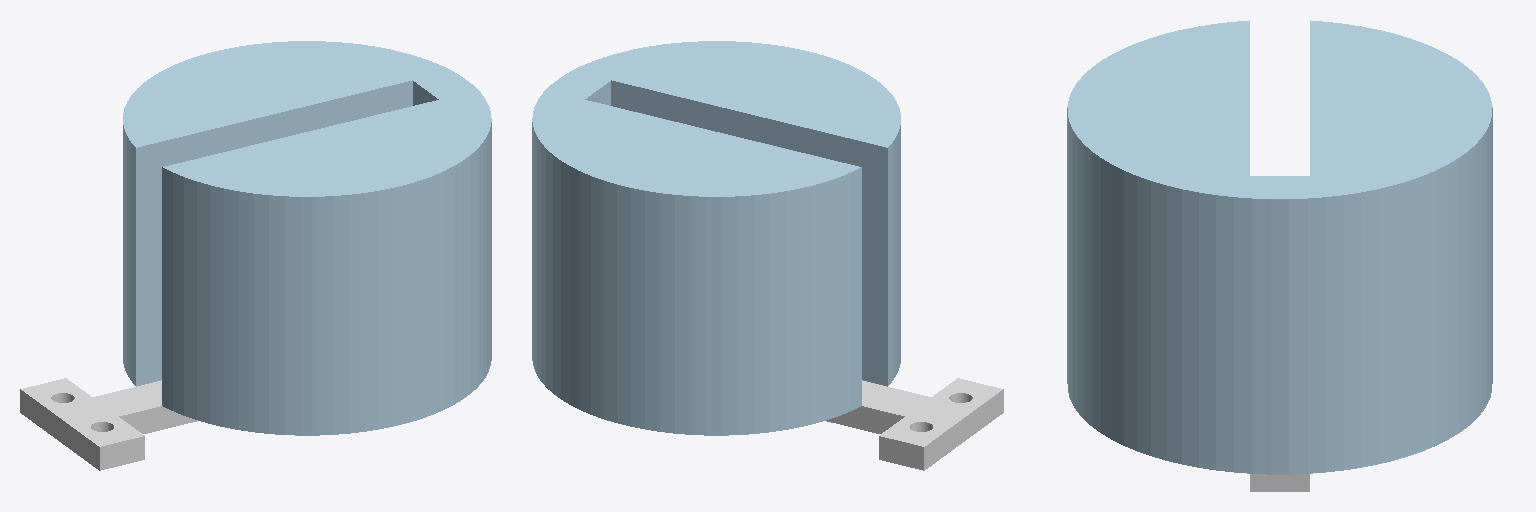
URDF robot description (camera):
<?xml version="1.0"?>
<robot name="camera">
<link name="camera_sup2">
<visual>
<origin xyz="-0.044250000000000101752 0.064999999999999655276 0.51000000000000034195" rpy="1.570796326794896558 6.6613381477509234653e-16 -1.570796326794896558" />
<geometry>
<mesh filename="package://hc10_with_hand/meshes/camera/camera_sup2.stl"/>
</geometry>
<material name="camera_sup2_material">
<color rgba="0.91764705882352937127 0.91764705882352937127 0.91764705882352937127 1.0"/>
</material>
</visual>
<collision>
<origin xyz="-0.044250000000000101752 0.064999999999999655276 0.51000000000000034195" rpy="1.570796326794896558 6.6613381477509234653e-16 -1.570796326794896558" />
<geometry>
<mesh filename="package://hc10_with_hand/meshes/camera/camera_sup2.stl"/>
</geometry>
</collision>
<visual>
<origin xyz="-0.045084453531127645365 0.064999999999999655276 0.51000000000000045297" rpy="1.570796326794896558 6.6613381477509234653e-16 -1.570796326794896558" />
<geometry>
<mesh filename="package://hc10_with_hand/meshes/camera/camera_link.stl"/>
</geometry>
<material name="camera_link_material">
<color rgba="0.76862745098039220171 0.88627450980392152857 0.95294117647058818044 1.0"/>
</material>
</visual>
<collision>
<origin xyz="-0.045084453531127645365 0.064999999999999655276 0.51000000000000045297" rpy="1.570796326794896558 6.6613381477509234653e-16 -1.570796326794896558" />
<geometry>
<mesh filename="package://hc10_with_hand/meshes/camera/camera_link.stl"/>
</geometry>
</collision>
<inertial>
<origin xyz="0.04949093212775205336 0.0074999999999999372724 0.029126341361751767467" rpy="0 0 0"/>
<mass value="0.44949998079333491896" />
<inertia ixx="0.00025885935812457525193" ixy="-9.4509154105318211273e-21"  ixz="-6.3216991564398030949e-06" iyy="0.00024727718204468863376" iyz="-3.5333537328324862512e-20" izz="0.00030425868802670864464" />
</inertial>
</link>

<link name="camera_to_hand">
<inertial>
<origin xyz="0 0 0" rpy="0 0 0" />
<mass value="1e-9" />
<inertia ixx="0" ixy="0" ixz="0" iyy="0" iyz="0" izz="0" />
</inertial>
</link>
<joint name="camera_to_hand_frame" type="fixed">
<origin xyz="1.2986865570217543499e-17 -6.9676108198468406655e-17 -3.3306690738754696213e-16" rpy="6.6613381477509185349e-16 5.6699377562760083384e-31 1.3877787807814422859e-17" />
<parent link="camera_to_hand" />
<child link="camera_sup2" />
<axis xyz="0 0 0"/>
</joint>

<link name="camera_link_view">
<inertial>
<origin xyz="0 0 0" rpy="0 0 0" />
<mass value="1e-9" />
<inertia ixx="0" ixy="0" ixz="0" iyy="0" iyz="0" izz="0" />
</inertial>
</link>
<joint name="camera_link_view_frame" type="fixed">
<origin xyz="0.050000000000000134615 0.0074999999999999103842 0.049999999999999732159" rpy="-5.6699377562760144691e-31 6.6613381477509234653e-16 -1.570796326794896558" />
<parent link="camera_sup2" />
<child link="camera_link_view" />
<axis xyz="0 0 0"/>
</joint>

<gazebo reference="camera_sup2">
    <material>Gazebo/Red</material>
    <sensor name="camera" type="camera">
    <pose> 0 0 0 0 0 0 </pose>
    <visualize>true</visualize>
    <update_rate>10</update_rate>
    	<camera>
    		<horizontal_fov>1.42419</horizontal_fov>
    		<image>
        	<format>R8G8B8</format>
        	<width>1920</width>
        	<height>1080</height>
    		</image>
    		<clip>
        	<near>0.05</near>
        	<far>8.0</far>
    		</clip>
    	</camera>
    <plugin name="camera_controller" filename="libgazebo_ros_camera.so">
    <frame_name>camera_link_view</frame_name>
    </plugin>
</sensor>
</gazebo>

</robot>

--- Render facts (derived) ---
Views: 3 orthographic renders of the robot side by side, from view 1: azimuth 30°, elevation 25°; view 2: azimuth 150°, elevation 25°; view 3: azimuth 270°, elevation 25°.
Robot: camera — 3 links, 2 joints (2 fixed); root link camera_to_hand; default pose: all joints at 0.
Links seen in each view (by area): view 1: camera_sup2; view 2: camera_sup2; view 3: camera_sup2.
Boxes of the visible links, bbox=[...] form: camera_sup2: bbox=[20, 41, 491, 470]; camera_sup2: bbox=[532, 41, 1003, 470]; camera_sup2: bbox=[1067, 20, 1492, 491].
Bounding box of the posed robot: 0.0891 × 0.07 × 0.055 m (x, y, z).
Meshes: 2 distinct files referenced, 2 mesh visuals loaded (2 binary STL).